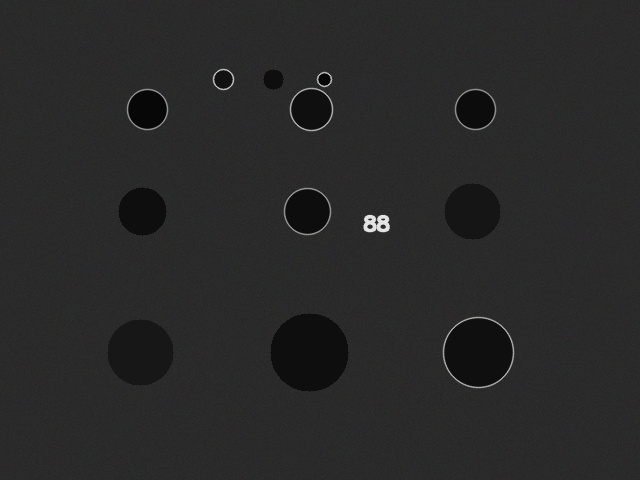hole: (270, 313, 348, 391), (443, 317, 513, 387), (107, 319, 173, 385), (444, 183, 500, 239), (118, 187, 166, 235), (284, 188, 330, 234), (290, 88, 332, 130), (127, 89, 167, 129), (455, 89, 495, 129), (213, 69, 233, 89), (263, 69, 283, 89), (317, 72, 331, 86)
